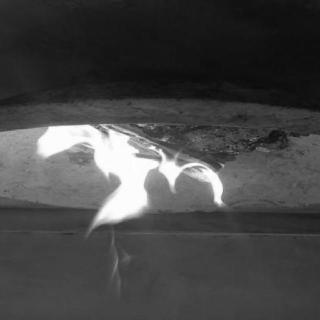Fire: (28, 122, 230, 238)
